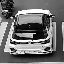motor: (10, 5, 49, 51)
